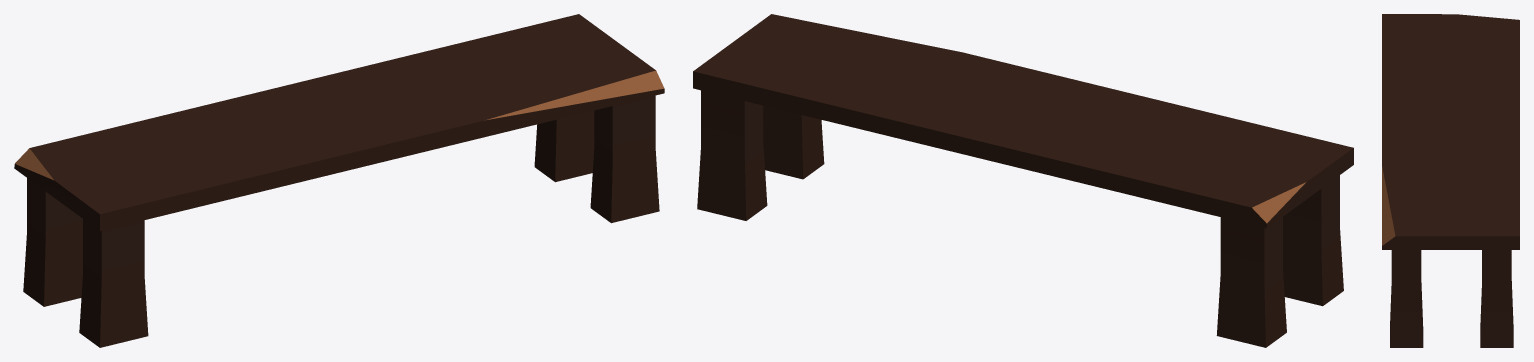
File: SM_bench.fbx
3 views of the same model, side by side, from view 1: azimuth 30°, elevation 25°; view 2: azimuth 150°, elevation 25°; view 3: azimuth 270°, elevation 25° (orthographic). The views are drawn at different scales.
Visible parts, largest first — view 1: Box023; view 2: Box023; view 3: Box023.
Boxes of the visible parts, left/top/right/bottom form: Box023: left=14, top=14, right=664, bottom=347; Box023: left=693, top=14, right=1353, bottom=347; Box023: left=1382, top=14, right=1519, bottom=347.
Size of the model in its own units: 91.46 by 21.42 by 23.97.
